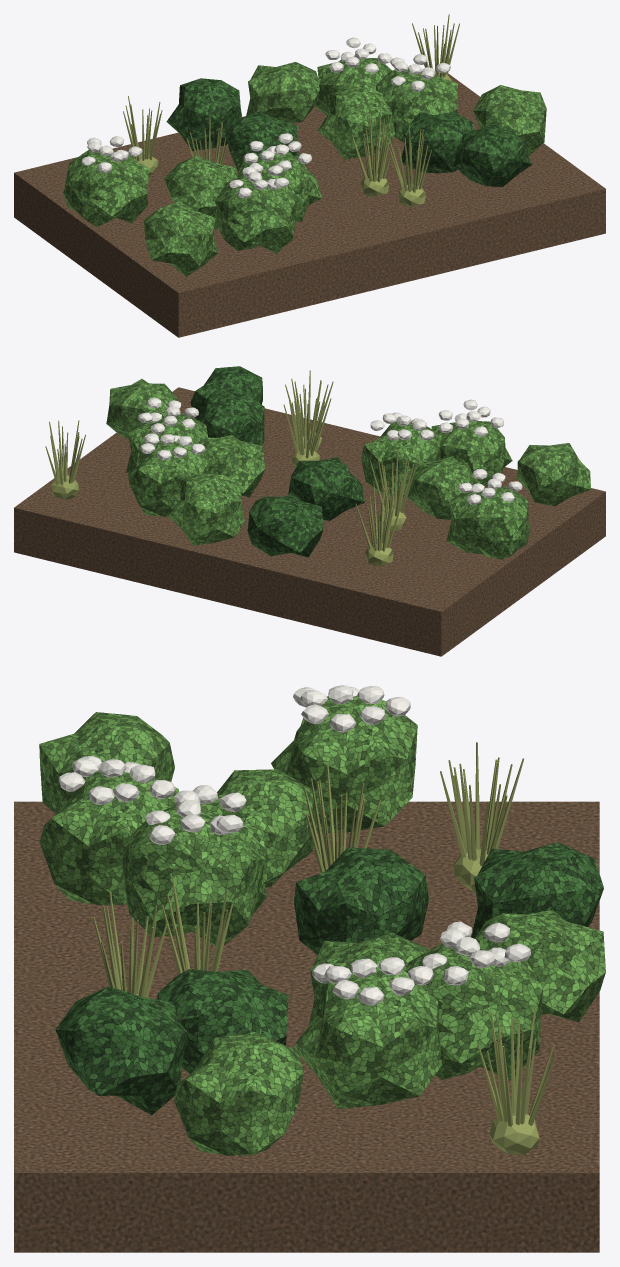
The picture shows the model from 3 angles, top to bottom: view 1: azimuth 30°, elevation 25°; view 2: azimuth 150°, elevation 25°; view 3: azimuth 270°, elevation 25°; orthographic projection. The views are drawn at different scales.
Parts seen in each view (by area): view 1: landscape.planting_bed, biljka-1-0.5 (×10), biljka-0-0.5 (×5), biljka-3-0.5 (×4), biljka-2-0.5 (×5); view 2: landscape.planting_bed, biljka-1-0.5 (×10), biljka-0-0.5 (×5), biljka-3-0.5 (×4), biljka-2-0.5 (×5); view 3: landscape.planting_bed, biljka-1-0.5 (×10), biljka-3-0.5 (×4), biljka-0-0.5 (×5), biljka-2-0.5 (×5).
Part boxes in pixels (bbox=[...]): landscape.planting_bed: bbox=[14, 73, 605, 337]; biljka-1-0.5 (×10): bbox=[63, 37, 457, 253]; biljka-0-0.5 (×5): bbox=[143, 62, 546, 276]; biljka-3-0.5 (×4): bbox=[166, 78, 532, 187]; biljka-2-0.5 (×5): bbox=[123, 14, 459, 206]; landscape.planting_bed: bbox=[14, 387, 605, 656]; biljka-1-0.5 (×10): bbox=[126, 398, 529, 559]; biljka-0-0.5 (×5): bbox=[106, 379, 591, 545]; biljka-3-0.5 (×4): bbox=[190, 366, 364, 557]; biljka-2-0.5 (×5): bbox=[45, 370, 417, 566]; landscape.planting_bed: bbox=[14, 801, 599, 1252]; biljka-1-0.5 (×10): bbox=[39, 685, 543, 1108]; biljka-3-0.5 (×4): bbox=[55, 842, 603, 1115]; biljka-0-0.5 (×5): bbox=[39, 712, 605, 1155]; biljka-2-0.5 (×5): bbox=[93, 742, 556, 1154].
Size of the model in its own units: 3.13 by 2.02 by 0.7962.
5 materials, 3 textured.
